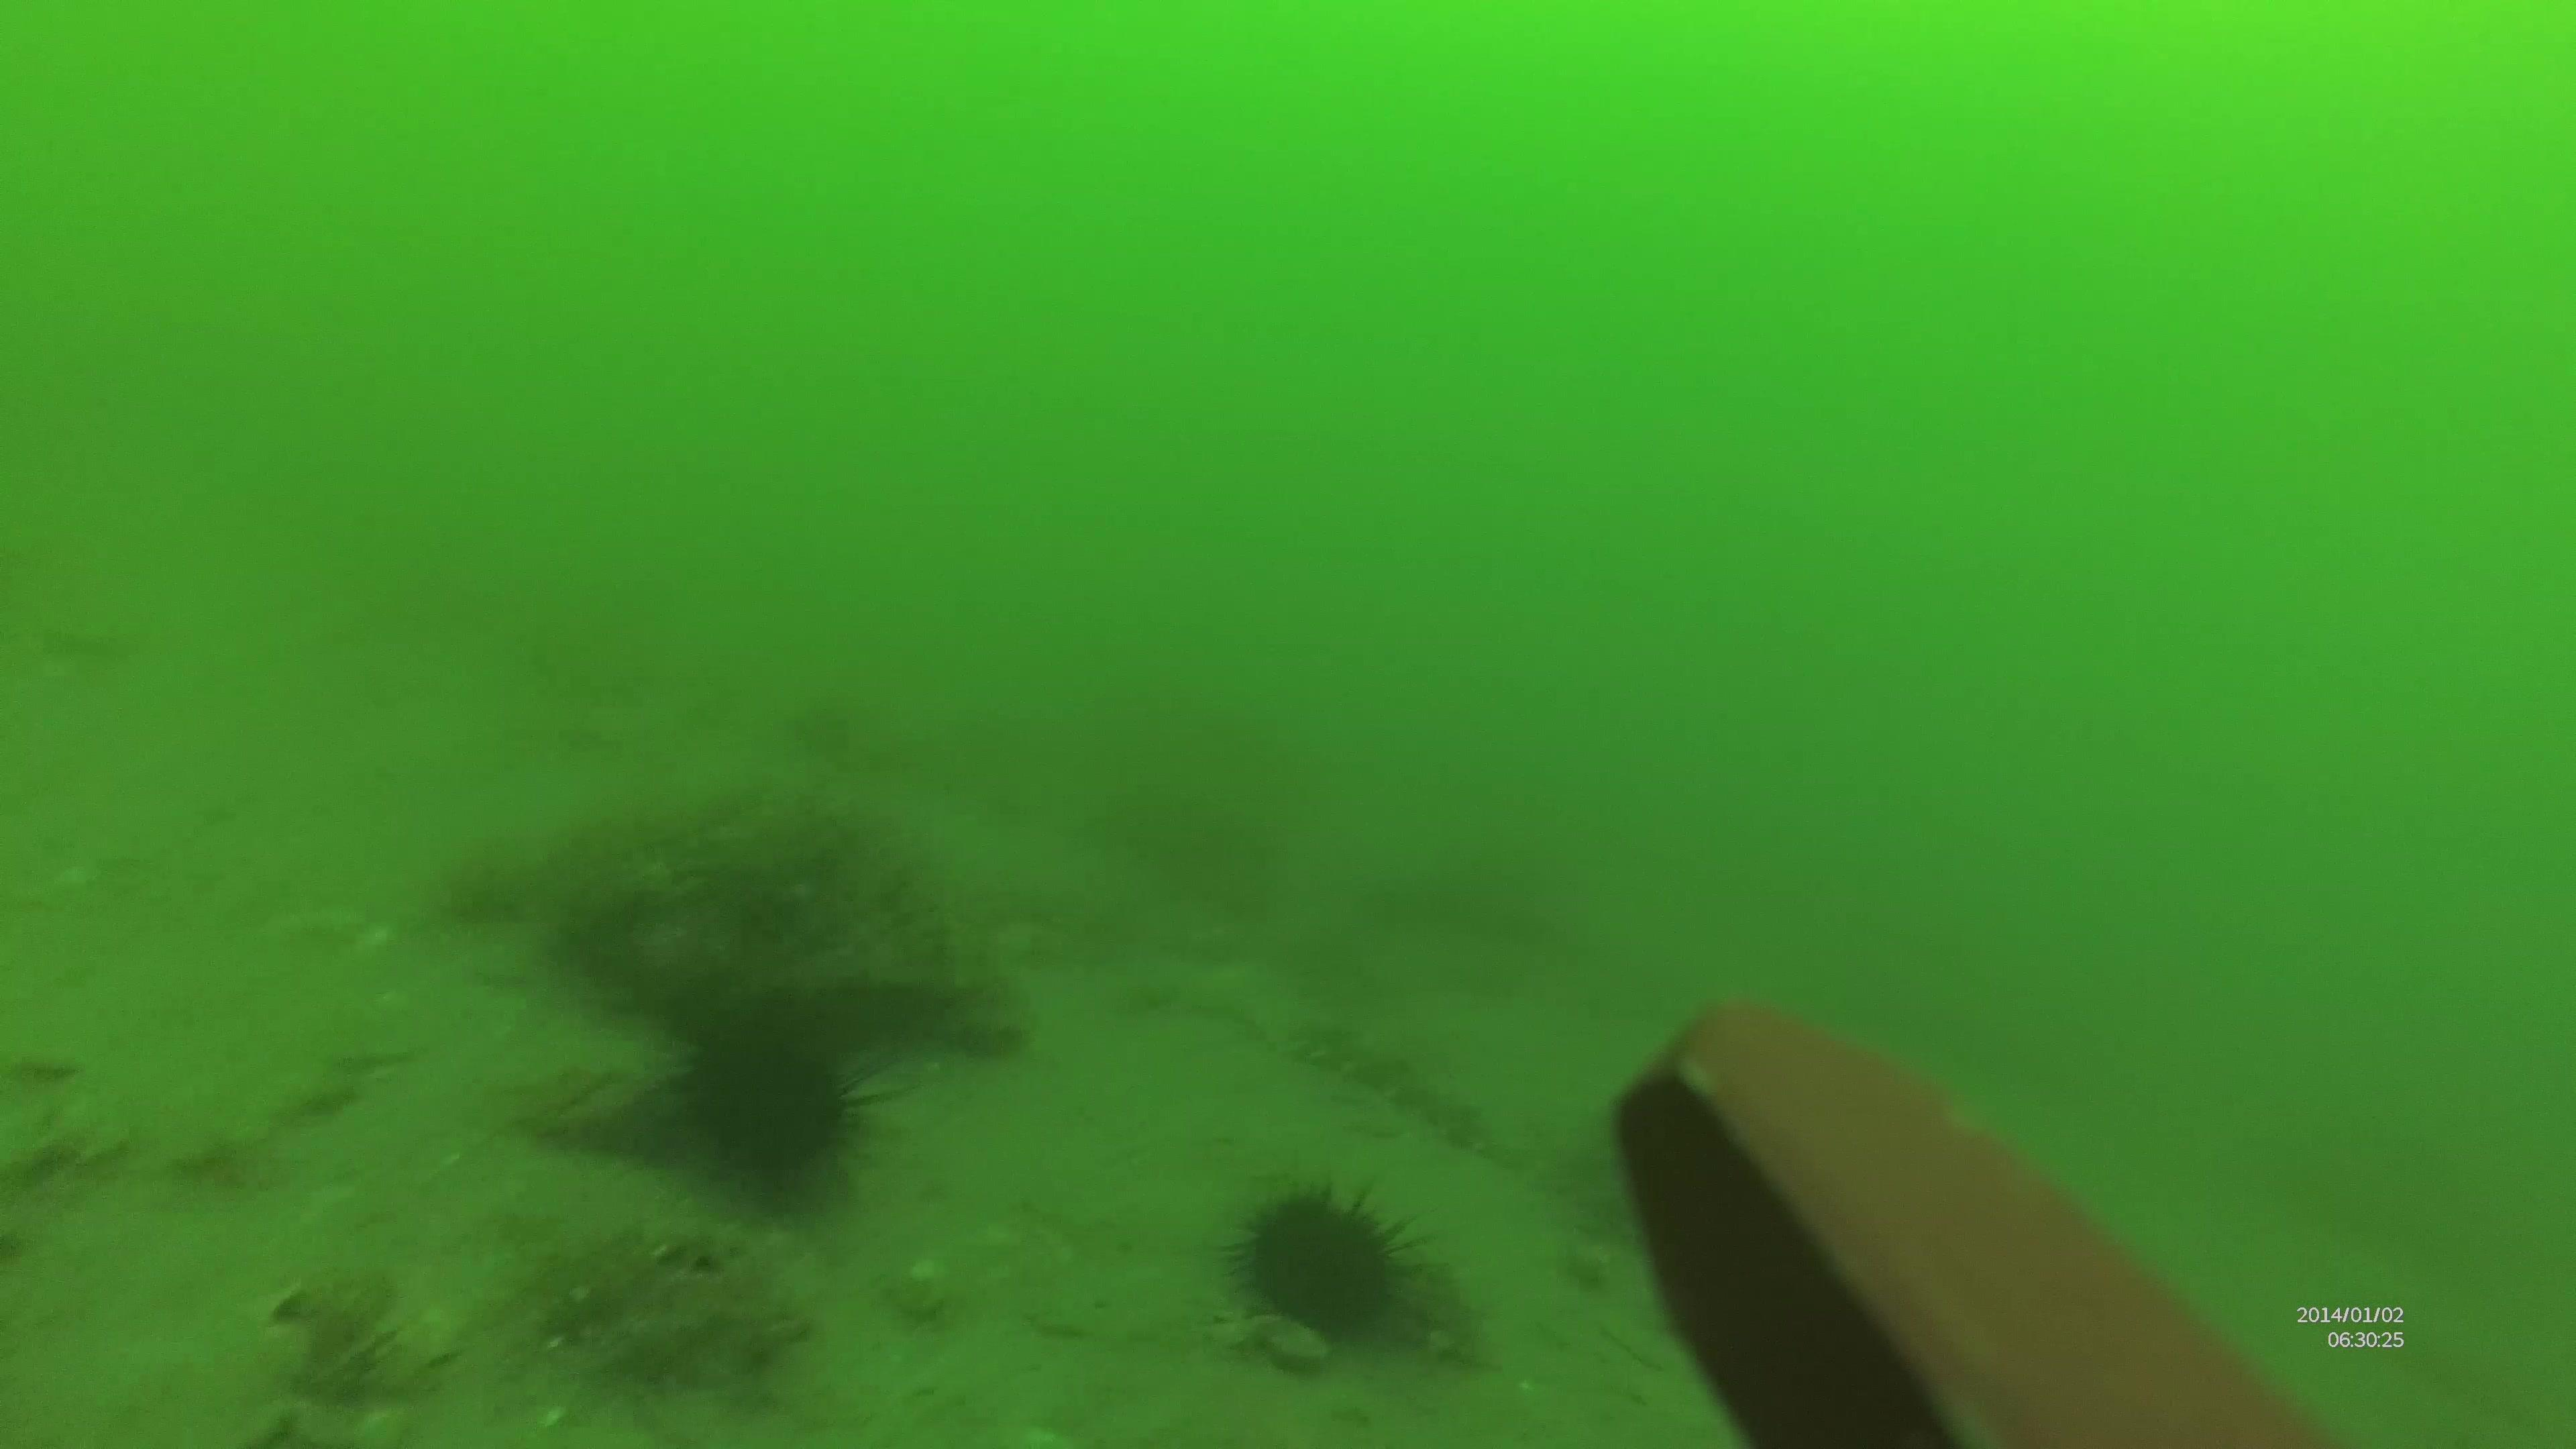echinus: (651, 1001, 913, 1208), (1224, 1185, 1438, 1339)
